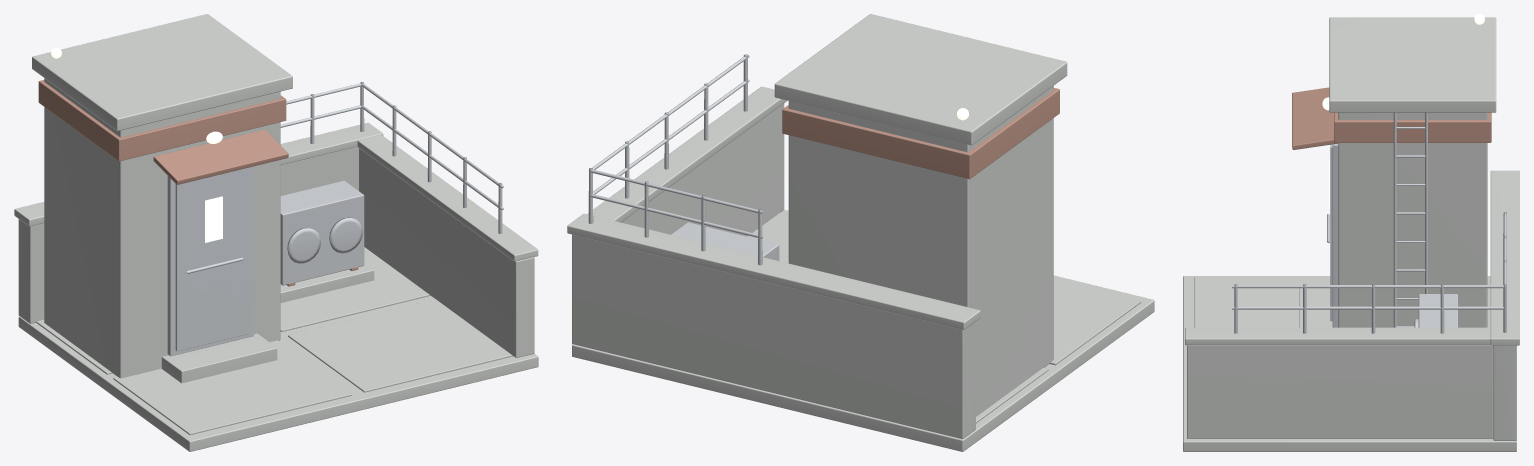
File: rooftop-sunset-parapet-stairhouse-v14.glb
3 views of the same model, side by side, from view 1: azimuth 30°, elevation 25°; view 2: azimuth 150°, elevation 25°; view 3: azimuth 270°, elevation 25° (orthographic). The views are drawn at different scales.
Visible parts, largest first — view 1: RooftopConcreteParapet, RooftopSteelSafetyAndHvac, RooftopTerracottaCanopy, RooftopBeaconAndVisionPane; view 2: RooftopConcreteParapet, RooftopTerracottaCanopy, RooftopSteelSafetyAndHvac; view 3: RooftopConcreteParapet, RooftopSteelSafetyAndHvac, RooftopTerracottaCanopy.
Boxes of the visible parts, <box> form: RooftopConcreteParapet: <box>14,14,538,451</box>; RooftopSteelSafetyAndHvac: <box>167,82,503,356</box>; RooftopTerracottaCanopy: <box>38,80,358,286</box>; RooftopBeaconAndVisionPane: <box>51,47,222,242</box>; RooftopConcreteParapet: <box>567,14,1154,451</box>; RooftopTerracottaCanopy: <box>782,88,1059,179</box>; RooftopSteelSafetyAndHvac: <box>588,54,779,265</box>; RooftopConcreteParapet: <box>1183,17,1519,451</box>; RooftopSteelSafetyAndHvac: <box>1232,112,1506,333</box>; RooftopTerracottaCanopy: <box>1292,87,1491,149</box>.
Bounding box in the file's own units: 4.06 × 3.15 × 3.43.
